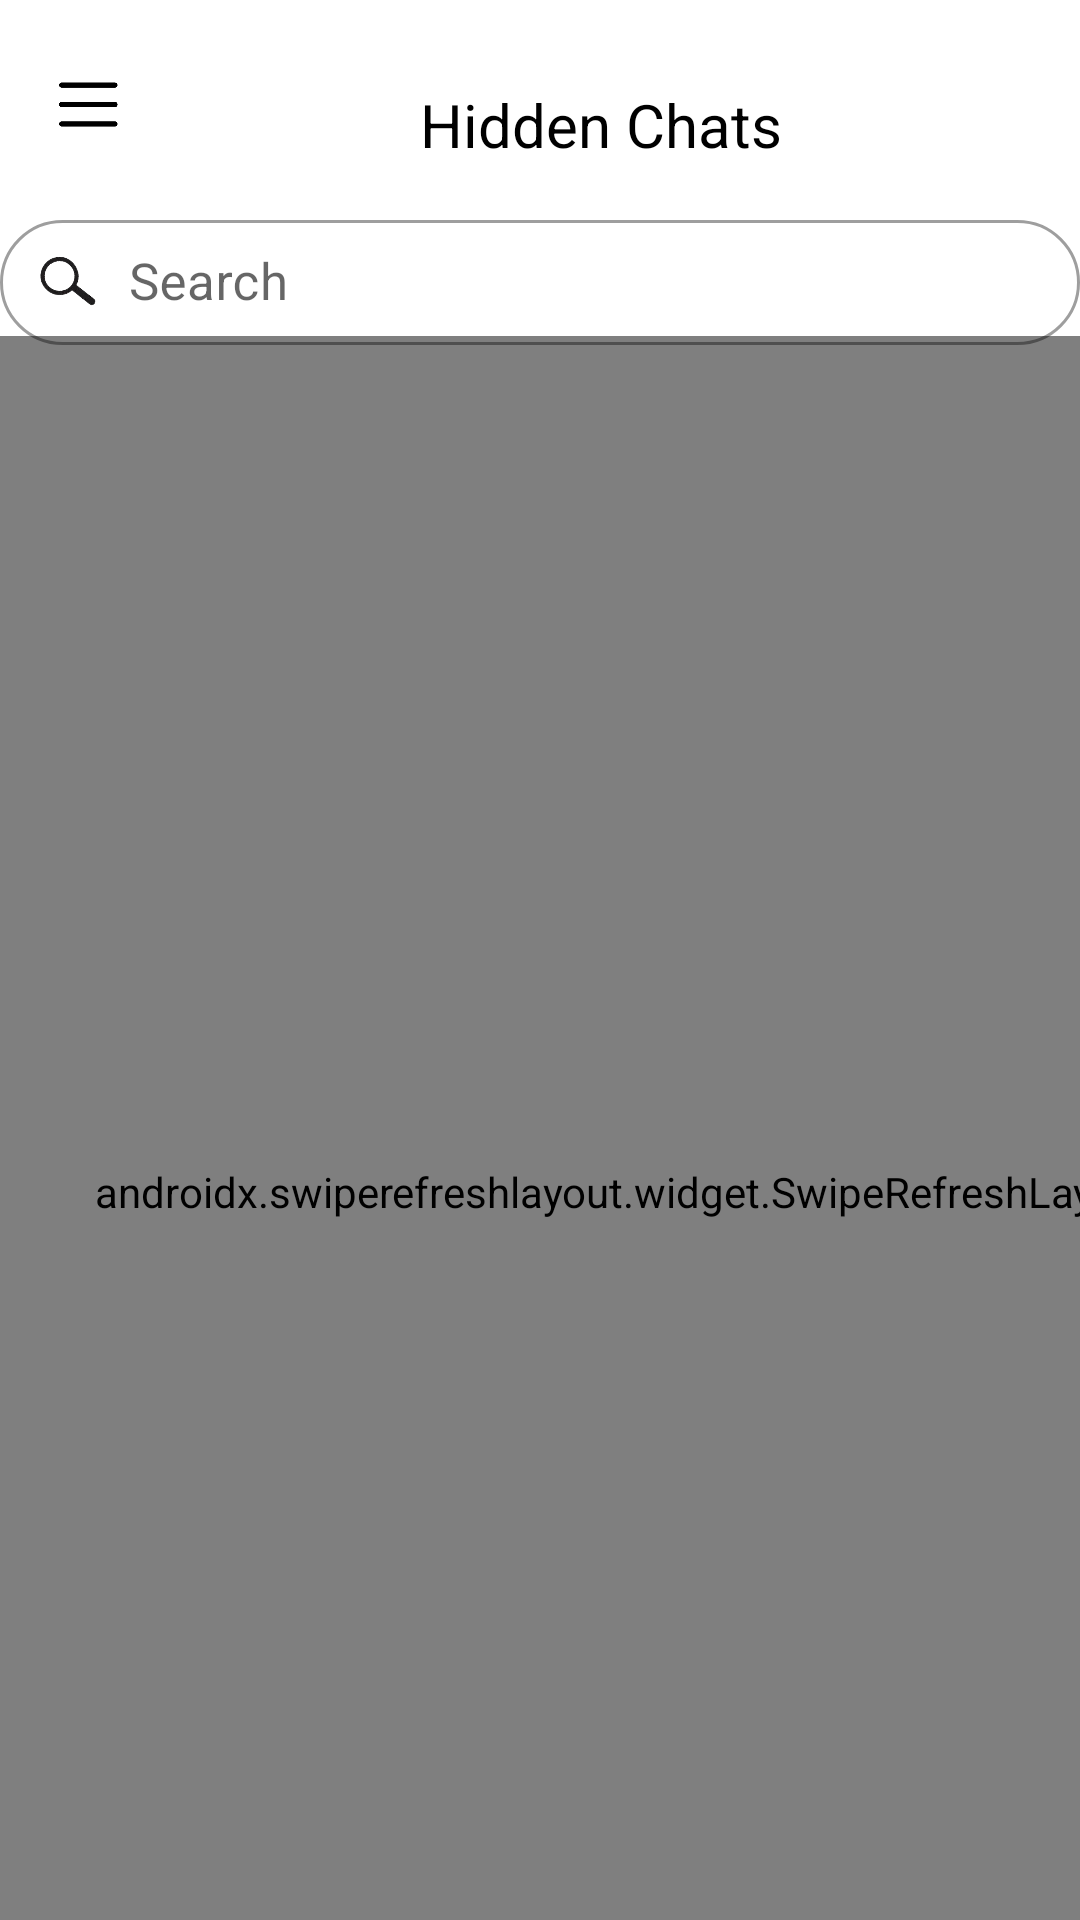

Icons on this 1080px×1920px Android screen, each with its box as (x1, y1, x2, y2):
three lines menu: (59, 82, 118, 127)
